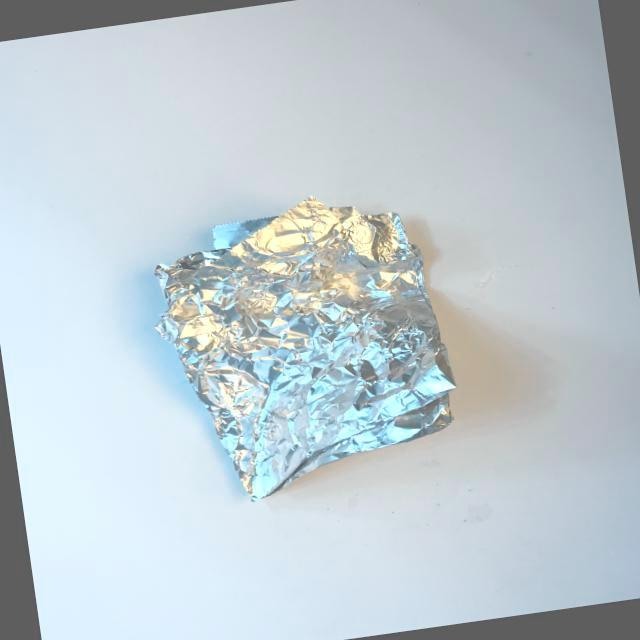metal: (118, 176, 487, 524)
